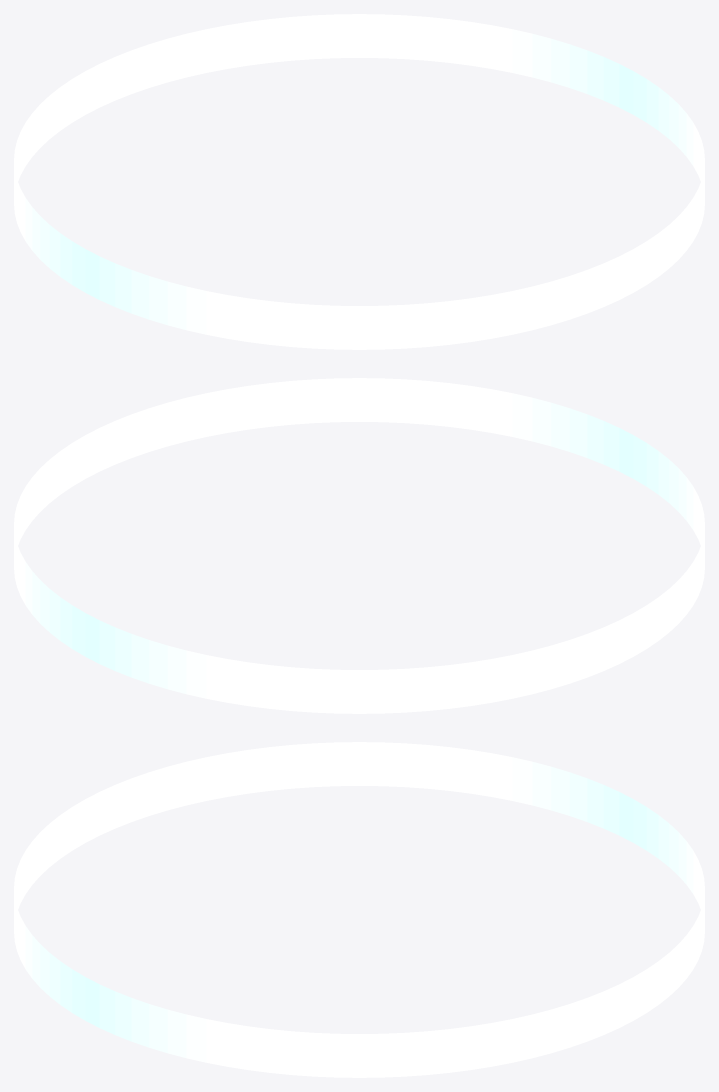
Rendered from scan_ring.glb.
The picture shows the model from 3 angles, top to bottom: view 1: azimuth 30°, elevation 25°; view 2: azimuth 150°, elevation 25°; view 3: azimuth 270°, elevation 25°; orthographic projection.
Parts seen in each view (by area): view 1: ring; view 2: ring; view 3: ring.
Part boxes in pixels (x1,y1,x2,y2): ring: (14, 14, 704, 349); ring: (14, 378, 704, 713); ring: (14, 742, 704, 1077).
Size of the model in its own units: 2 by 0.14 by 2.
